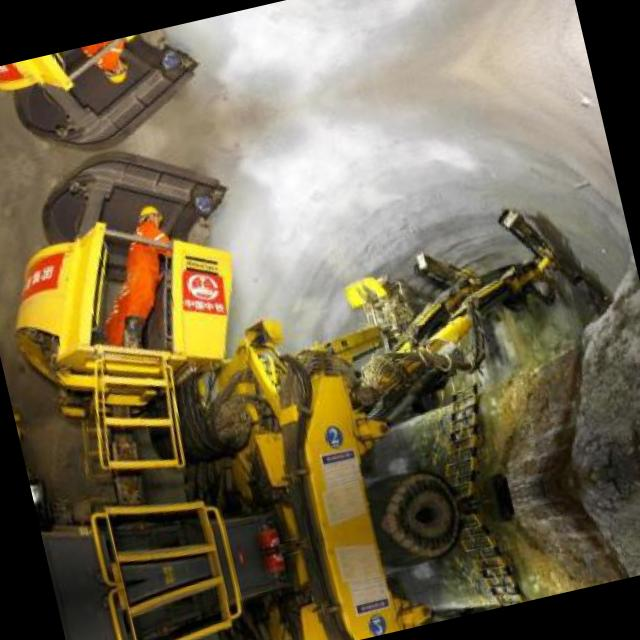helmet: (132, 198, 166, 233), (100, 54, 132, 90)
